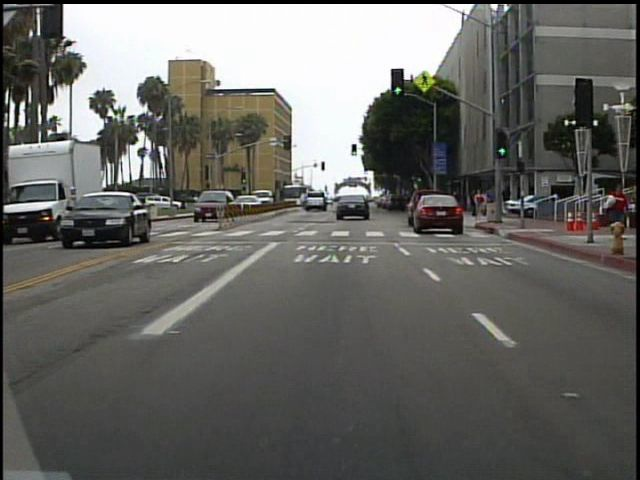person: (470, 187, 486, 223), (485, 183, 498, 220), (500, 183, 514, 217)
